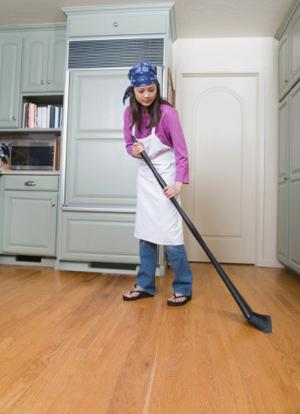person: (123, 63, 193, 306)
